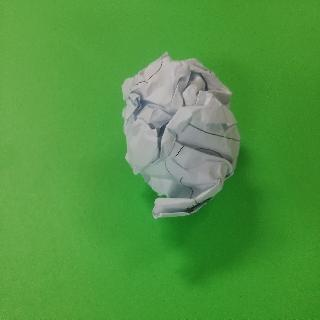8/可回收垃圾/纸: (120, 50, 242, 219)
